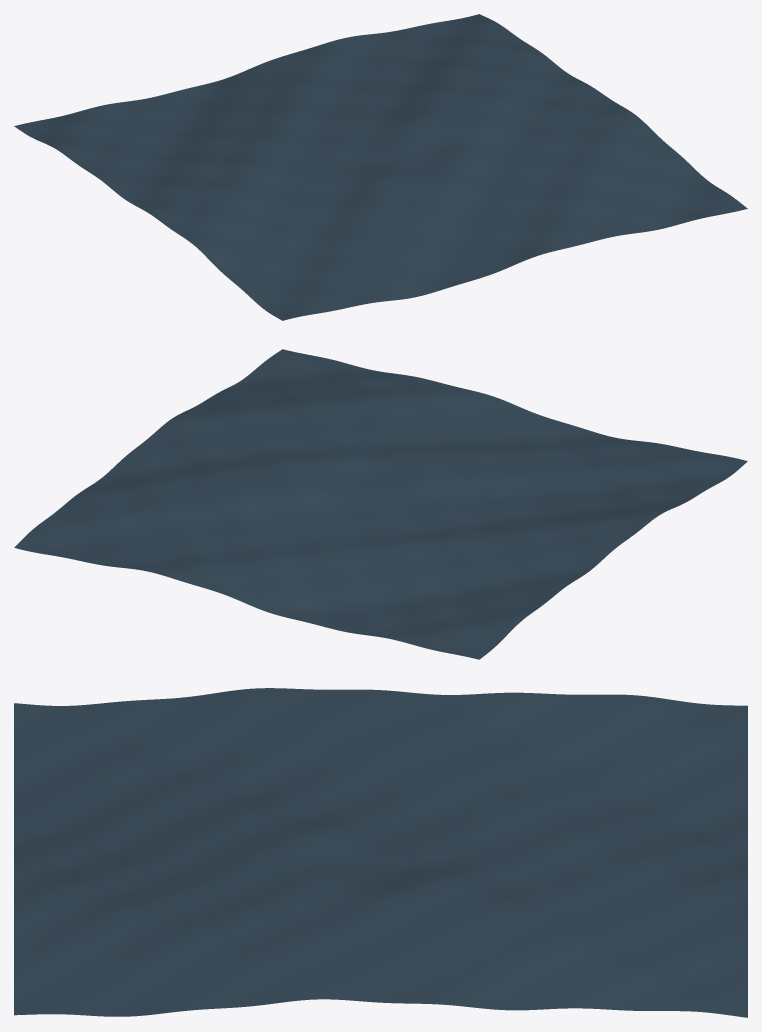
Rendered from seabed-processed.glb.
3 views of the same model, one above another, from view 1: azimuth 30°, elevation 25°; view 2: azimuth 150°, elevation 25°; view 3: azimuth 270°, elevation 25° (orthographic). The views are drawn at different scales.
Parts seen in each view (by area): view 1: Abyssal_Seafloor_Mesh; view 2: Abyssal_Seafloor_Mesh; view 3: Abyssal_Seafloor_Mesh.
Boxes of the visible parts, x1,y1,x2,y2 form: Abyssal_Seafloor_Mesh: (14, 14, 747, 320); Abyssal_Seafloor_Mesh: (14, 349, 747, 659); Abyssal_Seafloor_Mesh: (14, 688, 747, 1017).
Size of the model in its own units: 450 by 22.4 by 450.
